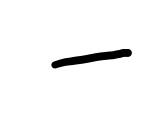minus: (52, 49, 132, 69)
